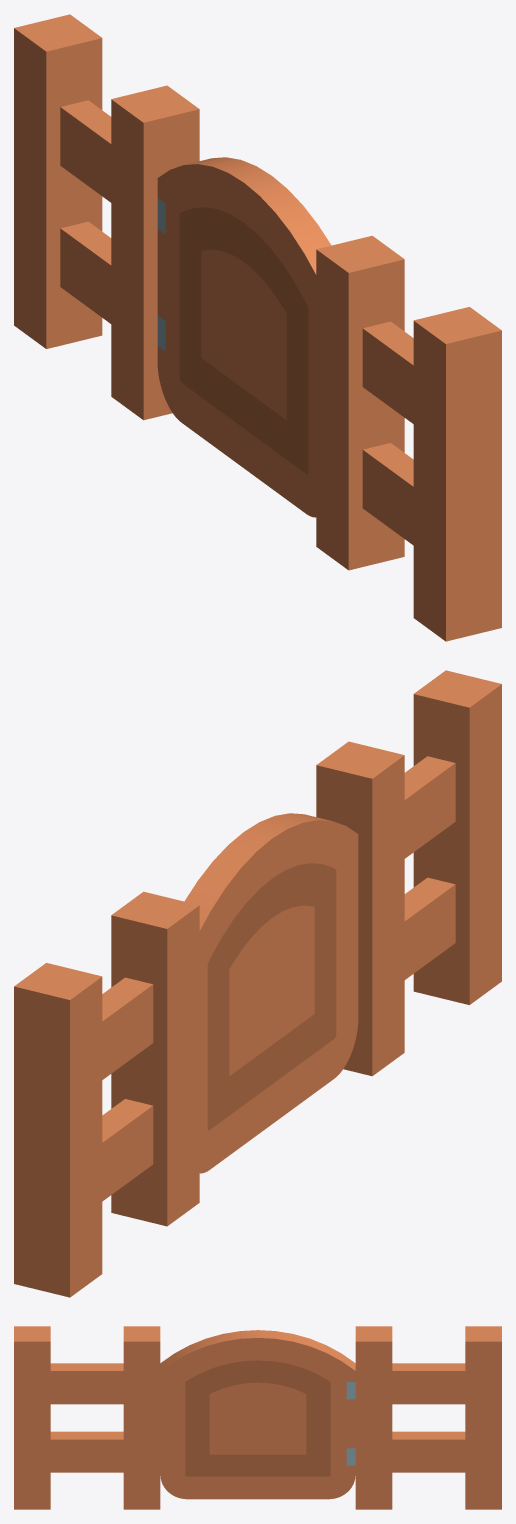
Rendered from fenceGate.obj.
The picture shows the model from 3 angles, top to bottom: view 1: azimuth 30°, elevation 25°; view 2: azimuth 150°, elevation 25°; view 3: azimuth 270°, elevation 25°; orthographic projection. The views are drawn at different scales.
Visible parts, largest first — view 1: fenceGate, gate; view 2: fenceGate, gate; view 3: fenceGate, gate.
Part boxes in pixels (x1,y1,x2,y2): fenceGate: (14, 14, 501, 641); gate: (157, 157, 331, 517); fenceGate: (14, 670, 501, 1297); gate: (184, 813, 358, 1173); fenceGate: (14, 1326, 501, 1509); gate: (160, 1330, 355, 1499).
Bounding box in the file's own units: 0.075 × 0.38 × 1.
